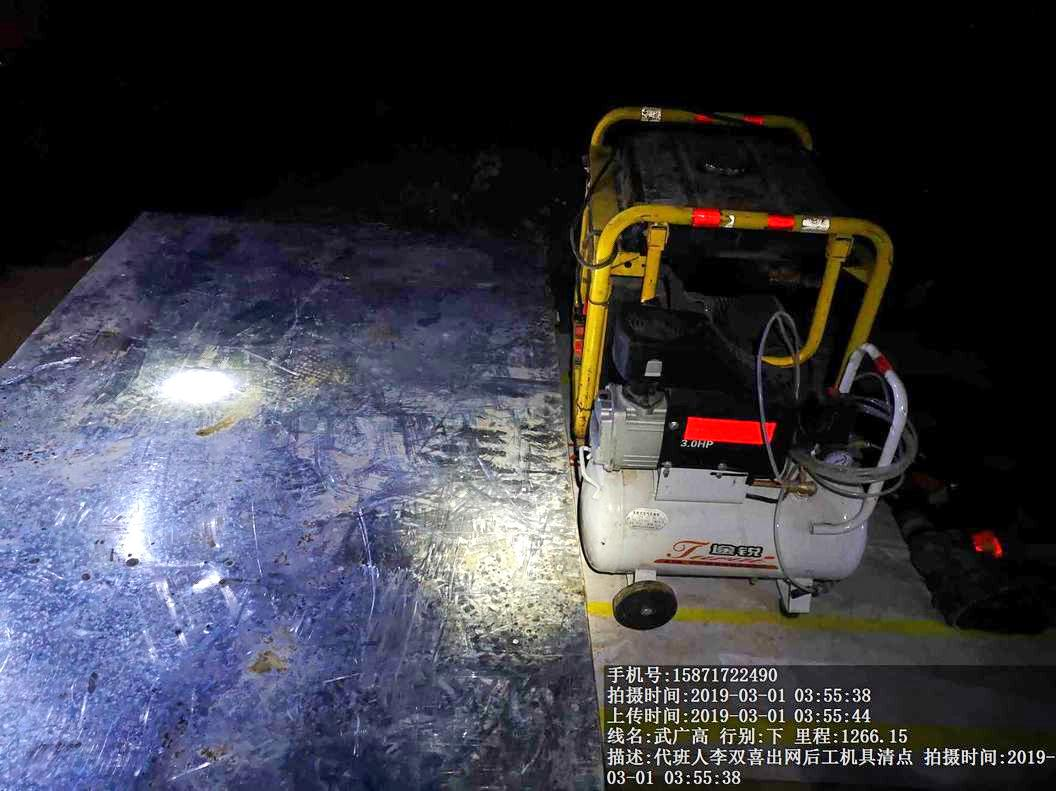DJ: (564, 84, 896, 351)
